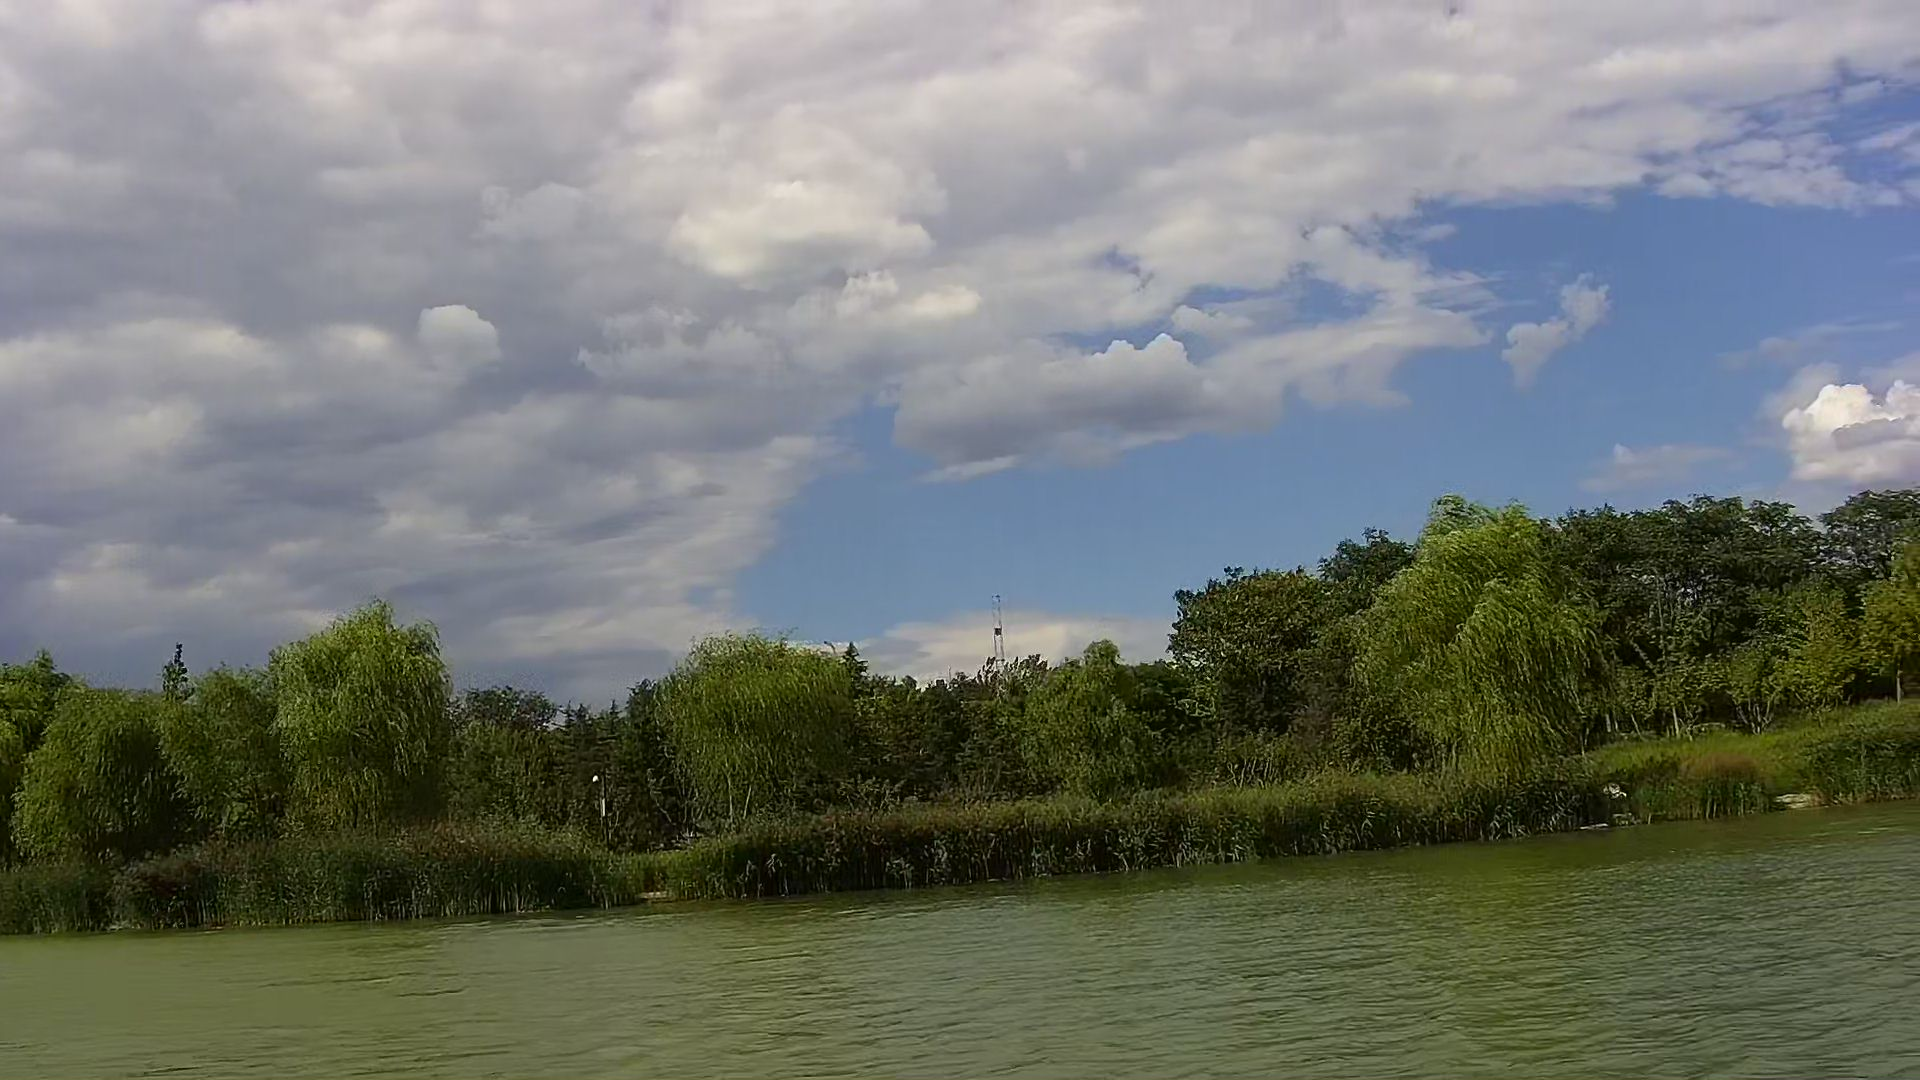rock: (1772, 789, 1826, 814)
